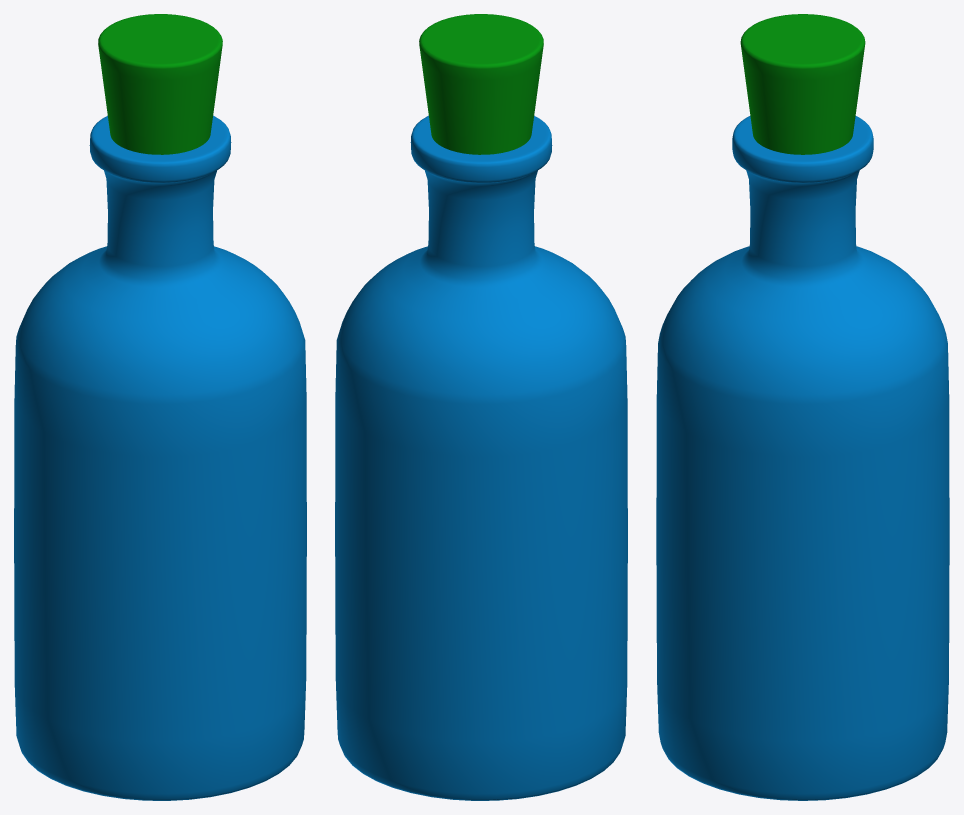
The model's file is bttle2.FBX.
The picture shows the model from 3 angles, left to right: view 1: azimuth 30°, elevation 25°; view 2: azimuth 150°, elevation 25°; view 3: azimuth 270°, elevation 25°; orthographic projection.
Parts seen in each view (by area): view 1: Bttle001; view 2: Bttle001; view 3: Bttle001.
Boxes of the visible parts, x1,y1,x2,y2 form: Bttle001: (14,14,306,800); Bttle001: (335,14,627,800); Bttle001: (656,14,949,800).
Bounding box in the file's own units: 59.27 × 157 × 59.27.
